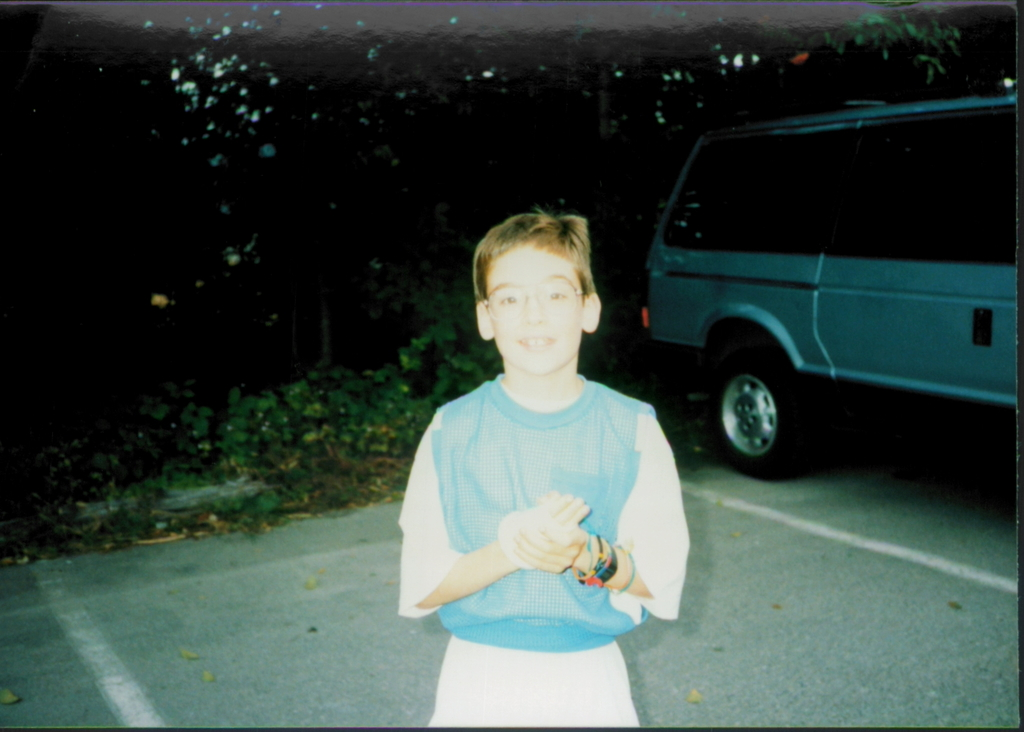Human_hand: (513, 519, 586, 574)
